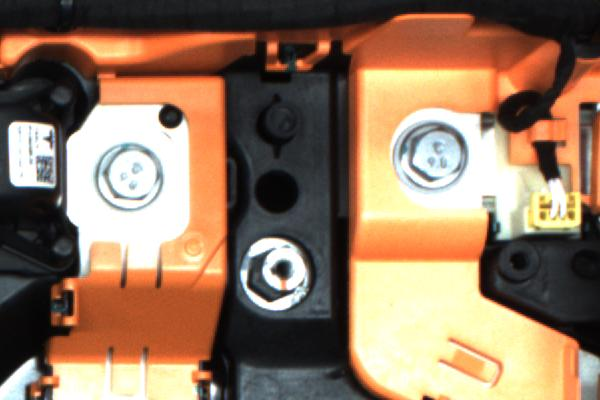nut_b: (391, 116, 474, 198), (97, 136, 179, 214)
